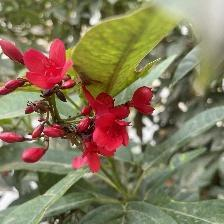jatropha: (22, 36, 82, 92)
